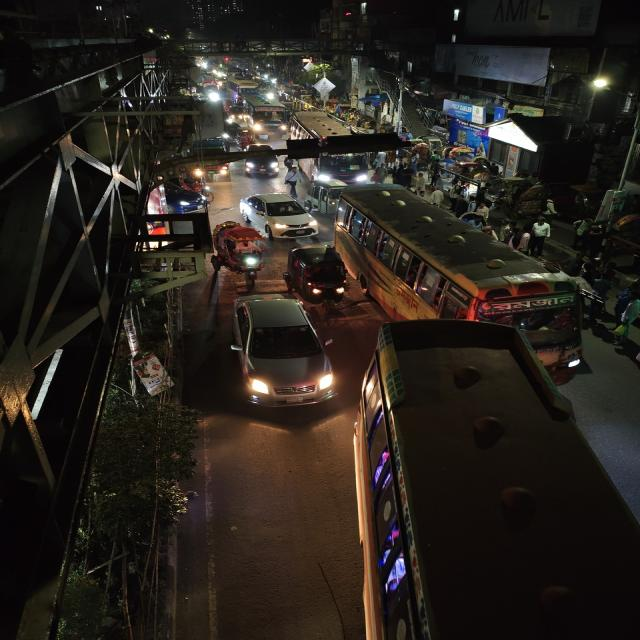bus: (350, 319, 638, 640), (335, 187, 592, 373), (310, 136, 376, 188), (240, 98, 288, 142), (224, 78, 259, 102)
car: (226, 294, 335, 412), (240, 192, 319, 238), (241, 146, 282, 180)
cng: (283, 244, 352, 307), (227, 105, 246, 123)
pedestrian: (485, 199, 513, 241), (525, 218, 553, 256), (279, 163, 303, 196), (504, 219, 527, 251), (449, 192, 467, 216), (428, 186, 445, 208)
rickshaw: (217, 221, 269, 287)
